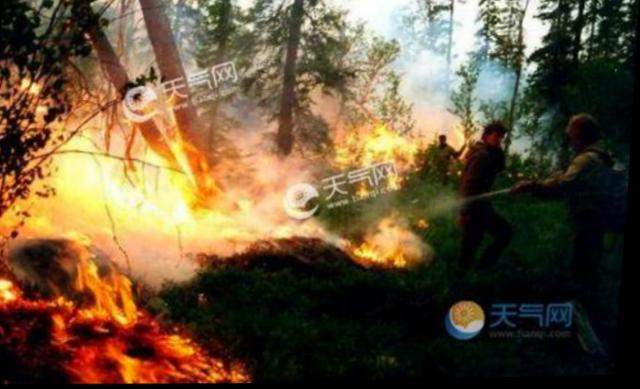fire: (0, 46, 438, 387)
